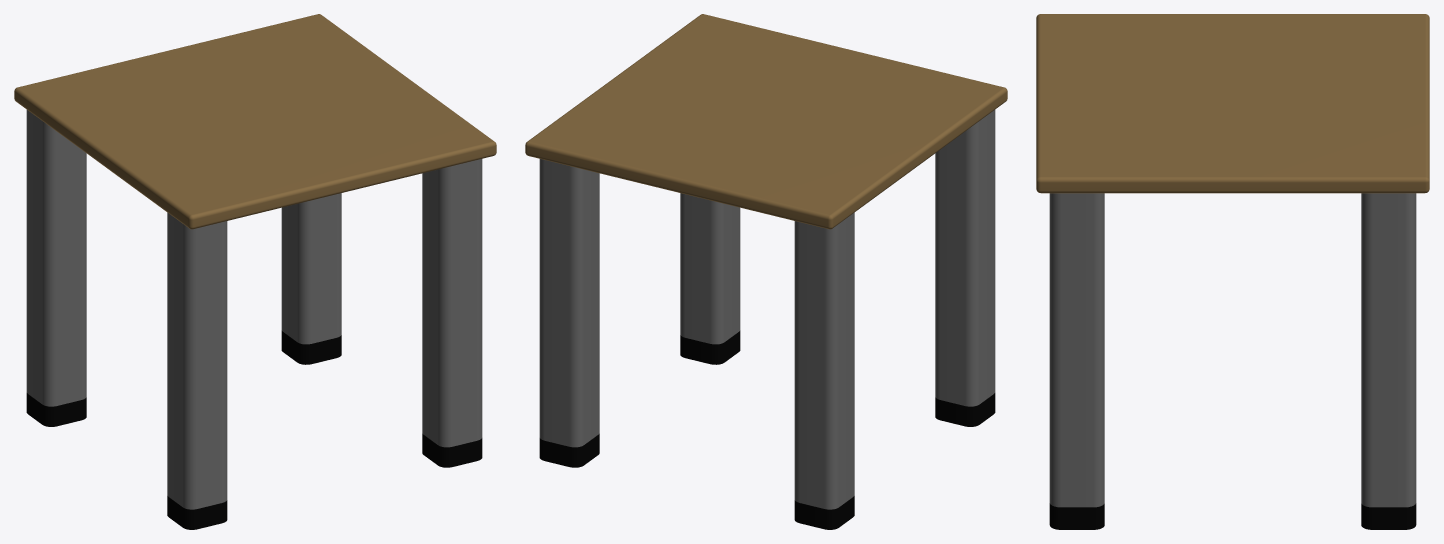
The model's file is Table.fbx.
The picture shows the model from 3 angles, left to right: view 1: azimuth 30°, elevation 25°; view 2: azimuth 150°, elevation 25°; view 3: azimuth 270°, elevation 25°; orthographic projection. The views are drawn at different scales.
Visible parts, largest first — view 1: Table, Table_Leg, Table_Leg1, Table_Leg3, Table_Leg2; view 2: Table, Table_Leg3, Table_Leg2, Table_Leg, Table_Leg1; view 3: Table, Table_Leg1, Table_Leg2.
Boxes of the visible parts, x1,y1,x2,y2 form: Table: (14,14,496,229); Table_Leg: (167,212,227,529); Table_Leg1: (422,159,482,467); Table_Leg3: (26,110,86,426); Table_Leg2: (281,193,341,364); Table: (525,14,1007,229); Table_Leg3: (794,212,854,529); Table_Leg2: (539,159,599,467); Table_Leg: (935,110,995,426); Table_Leg1: (680,193,740,364); Table: (1036,14,1429,193); Table_Leg1: (1049,193,1104,529); Table_Leg2: (1361,193,1416,529).
Size of the model in its own units: 1 by 0.994 by 1.
